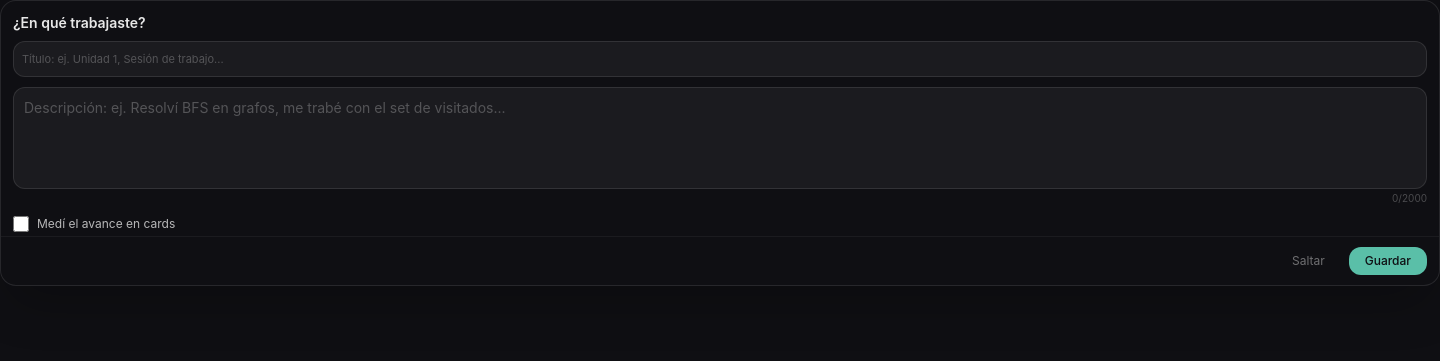
Test: JournalPrompt — el rótulo es el que eligió el usuario › los aria-label del stepper acompañan a la unidad
Click the checkbox labelled "Medí el avance en cards" at (21, 224), box [13,216,29,232]
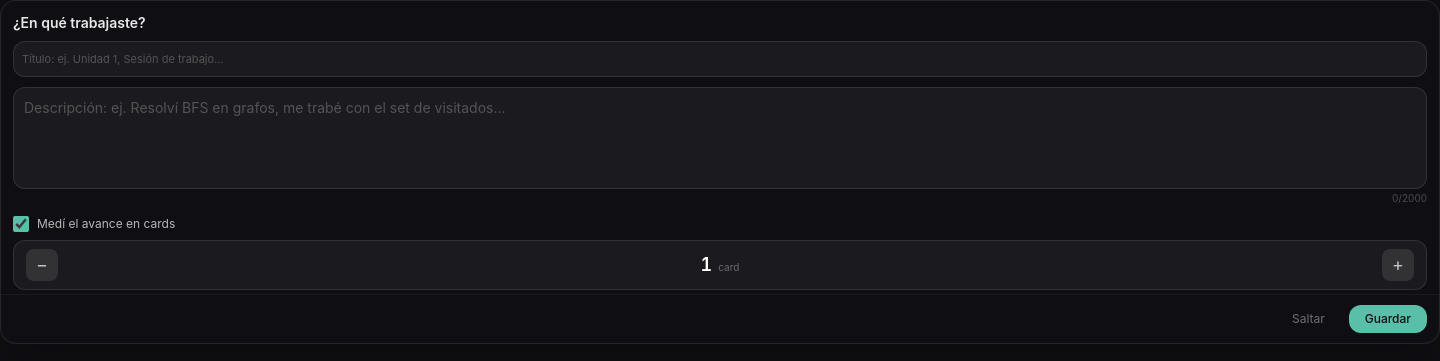
Expected: the button named "Sumar medio card" is shown, [1382,249,1414,281]
Expected: the button named "Restar medio card" is shown, [26,249,58,281]
